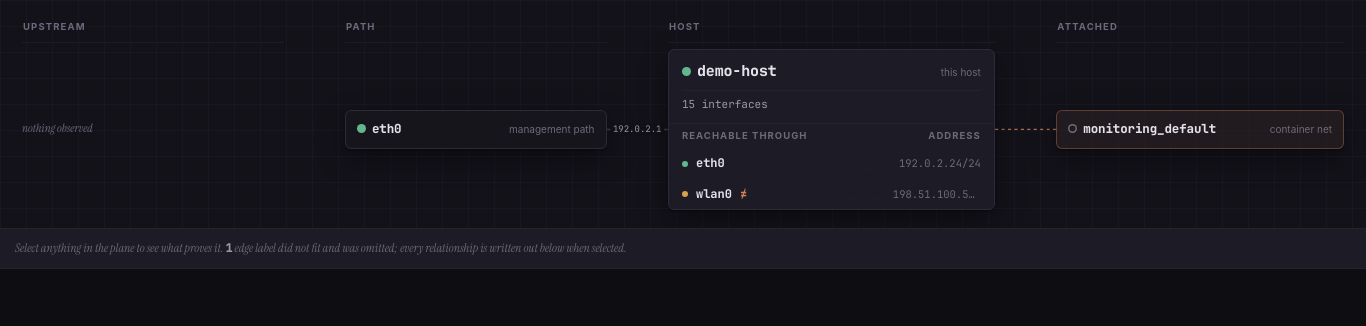
Test: selection › explains a node in the evidence strip rather than navigating away from it
Click the button "monitoring_default container net" at (1200, 129), box [1057,111,1343,148]
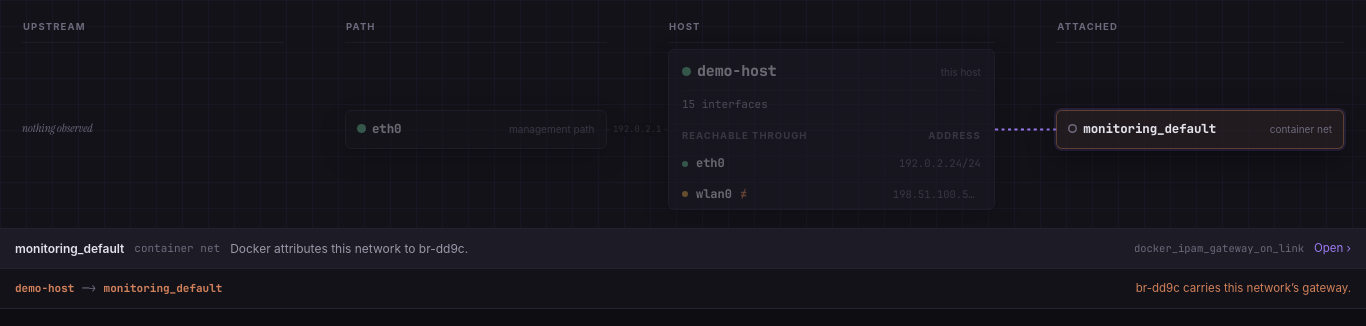
Expected: the text "Docker attributes this network to br-dd9c." is shown, [230,241,468,256]
Expected: the text "docker_ipam_gateway_on_link" is shown, [1134,241,1304,256]
